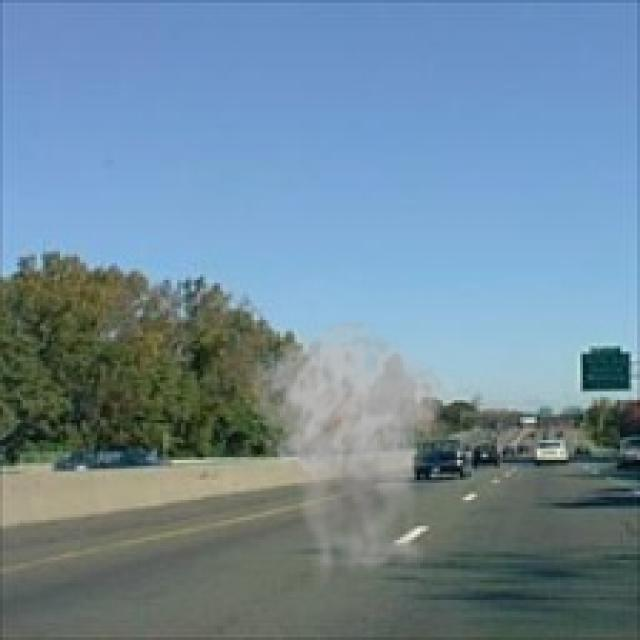smoke: (246, 317, 463, 592)
